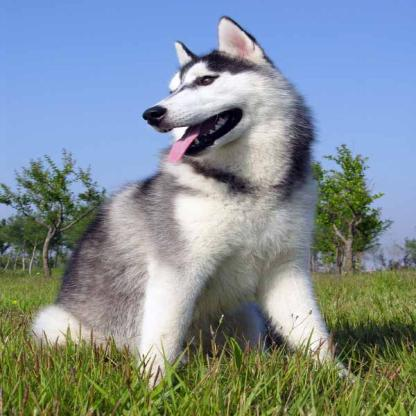dog: (34, 14, 352, 388)
